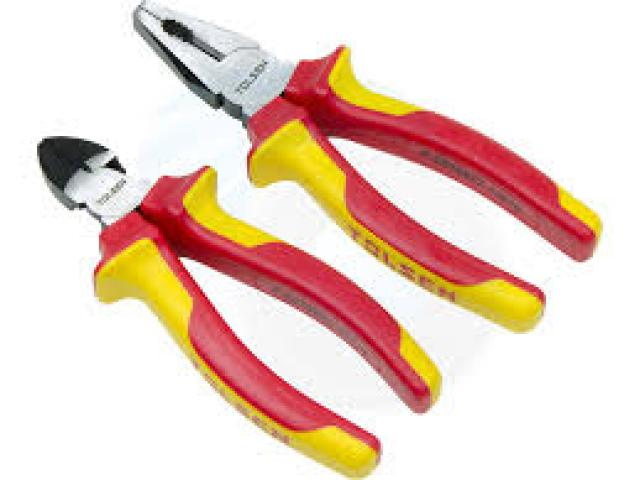Cutting pliers: (38, 139, 440, 475)
Pliers: (138, 3, 601, 330)
